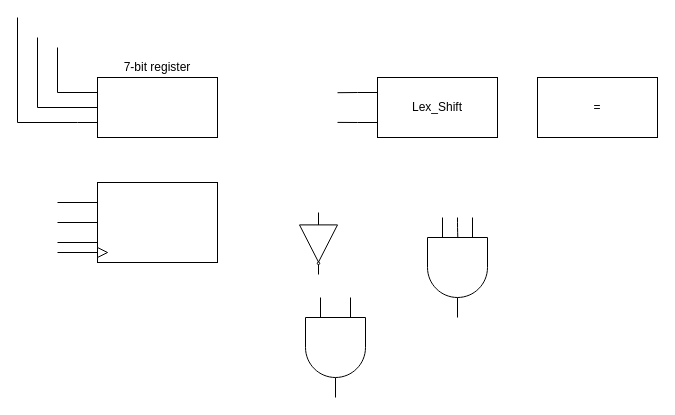
Some shapes in this 675 by 415 pixel diagram are drawn without their labels. The centre of each missing label's shape, as x and y in pixels:
Rotor: (x=157, y=222)
S 0: (x=157, y=107)
